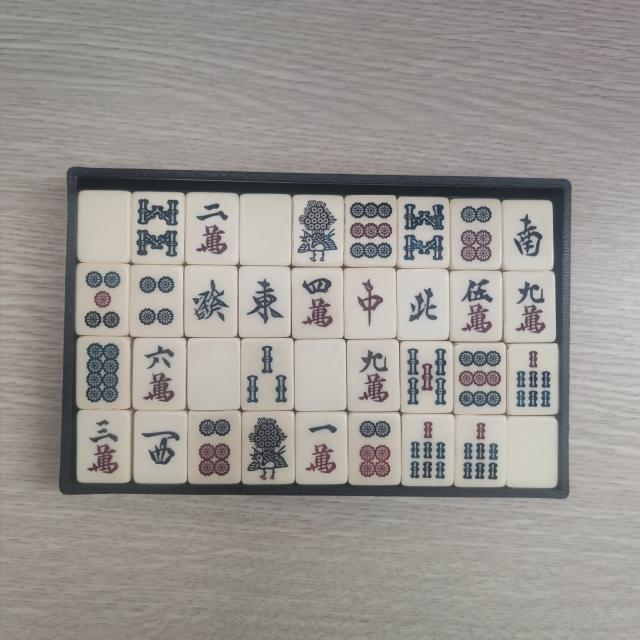hdg: (190, 272, 234, 334)
hdr: (350, 274, 390, 336)
hdw: (82, 194, 126, 256), (193, 344, 236, 406), (245, 200, 287, 262), (300, 345, 342, 407), (512, 422, 552, 484)
hwe: (242, 272, 286, 336)
hwn: (403, 274, 444, 334)
hws: (508, 204, 549, 264)
hww: (138, 418, 182, 480)
sb1: (294, 198, 342, 266), (245, 416, 290, 482)
sb3: (246, 341, 290, 406)
sb5: (405, 346, 449, 411)
sb7: (407, 417, 450, 482), (512, 348, 555, 412), (460, 419, 503, 482)
sb8: (137, 196, 182, 261), (402, 202, 447, 266)
sc1: (302, 416, 342, 480)
sc2: (191, 196, 234, 259)
sc3: (82, 416, 125, 479)
sc4: (297, 273, 340, 335)
sc5: (454, 276, 496, 338)
sc6: (140, 340, 182, 406)
sc9: (352, 343, 394, 406), (509, 276, 550, 338)
sd4: (136, 270, 180, 332)
sd5: (82, 268, 125, 330)
sd6: (354, 417, 396, 482), (193, 416, 236, 479), (456, 202, 496, 264)
sd8: (82, 340, 126, 405)
sd9: (456, 346, 504, 409), (347, 198, 393, 261)
